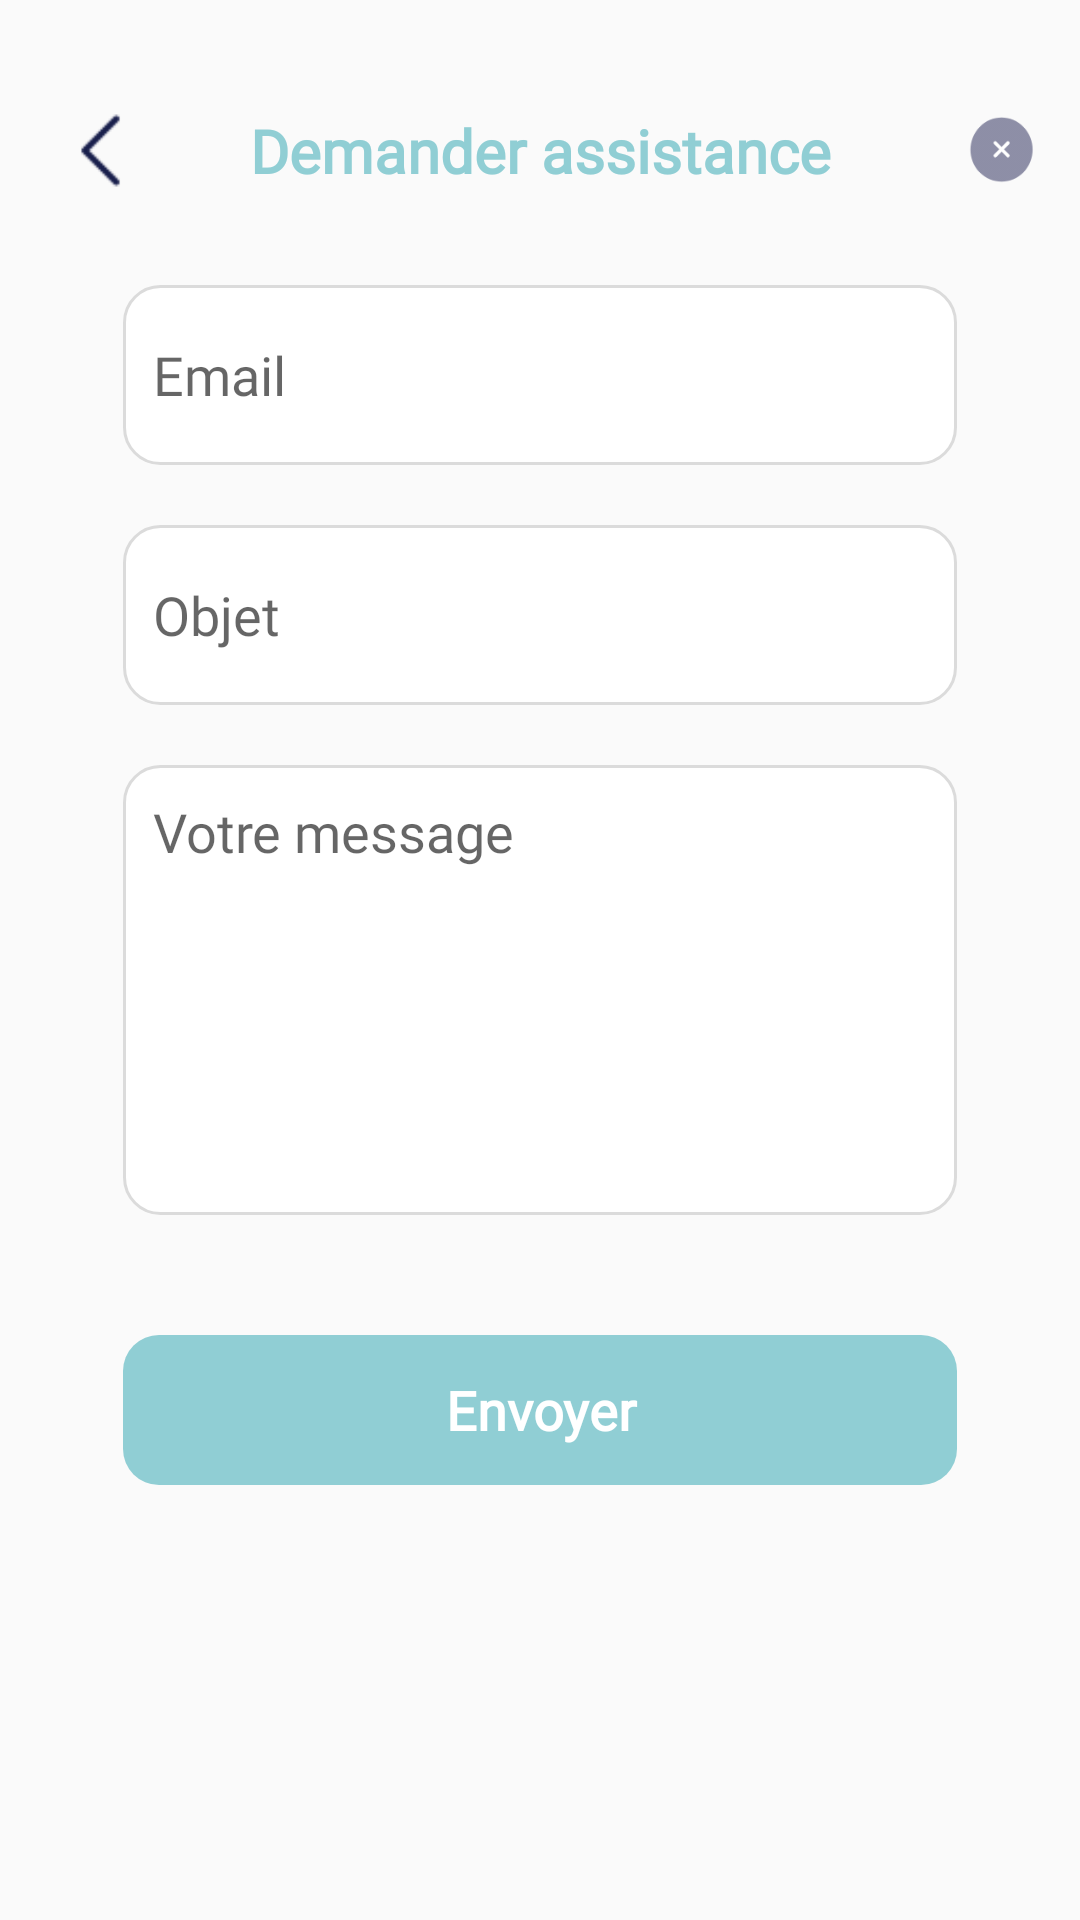

Icons on this 1080 × 1920 Android screen, each with the point to tap as (x=x, y=y):
blackback: (x=100, y=150)
